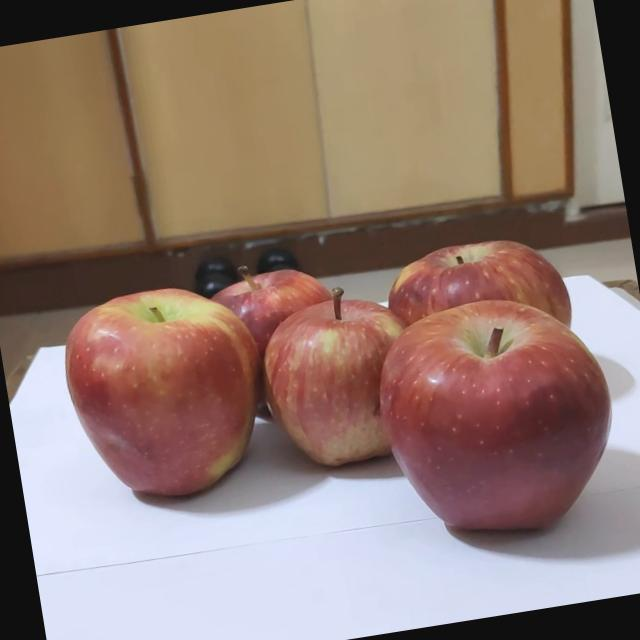apple: (324, 303, 592, 584), (364, 208, 586, 424), (40, 300, 254, 520), (220, 294, 410, 484), (190, 242, 350, 400)
